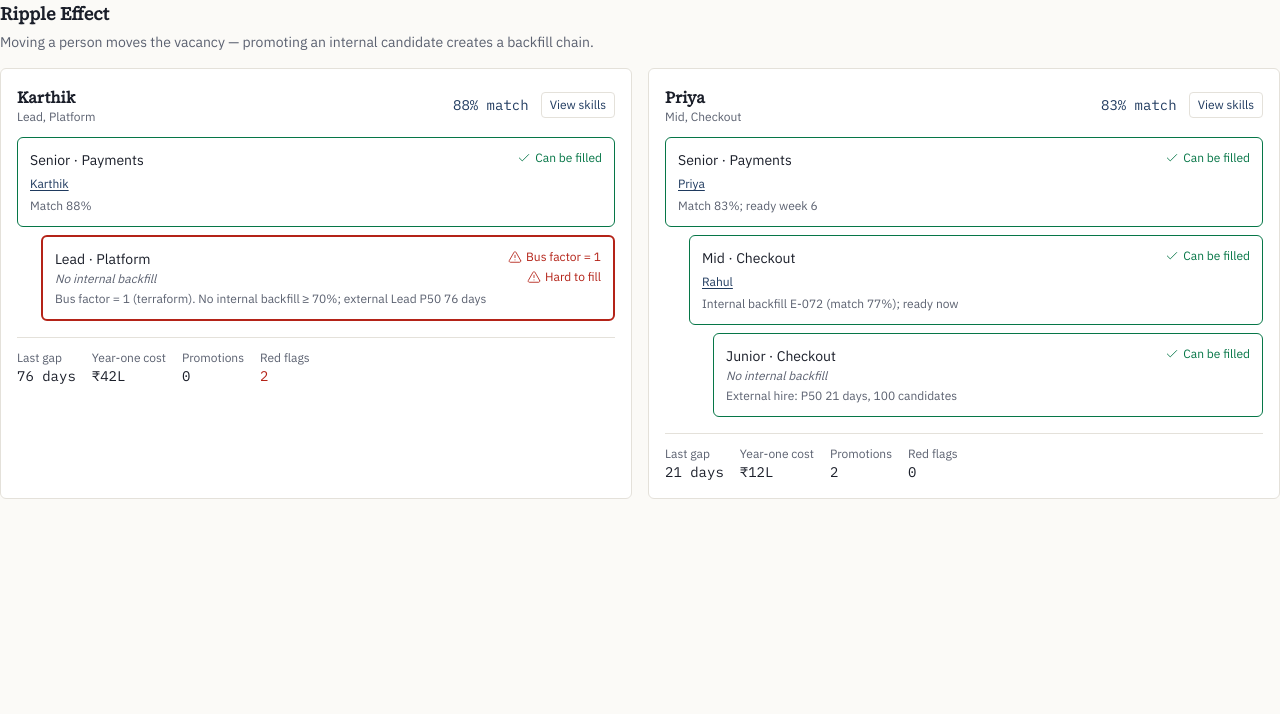
Test: TC11: UI renders only people from API; drawer opens; tree is keyboard navigable › clicking View skills opens the drawer with person's skills
Click the button "View skills" in the row of "Lead, Platform".
click(578, 105)  # box [541, 92, 615, 118]
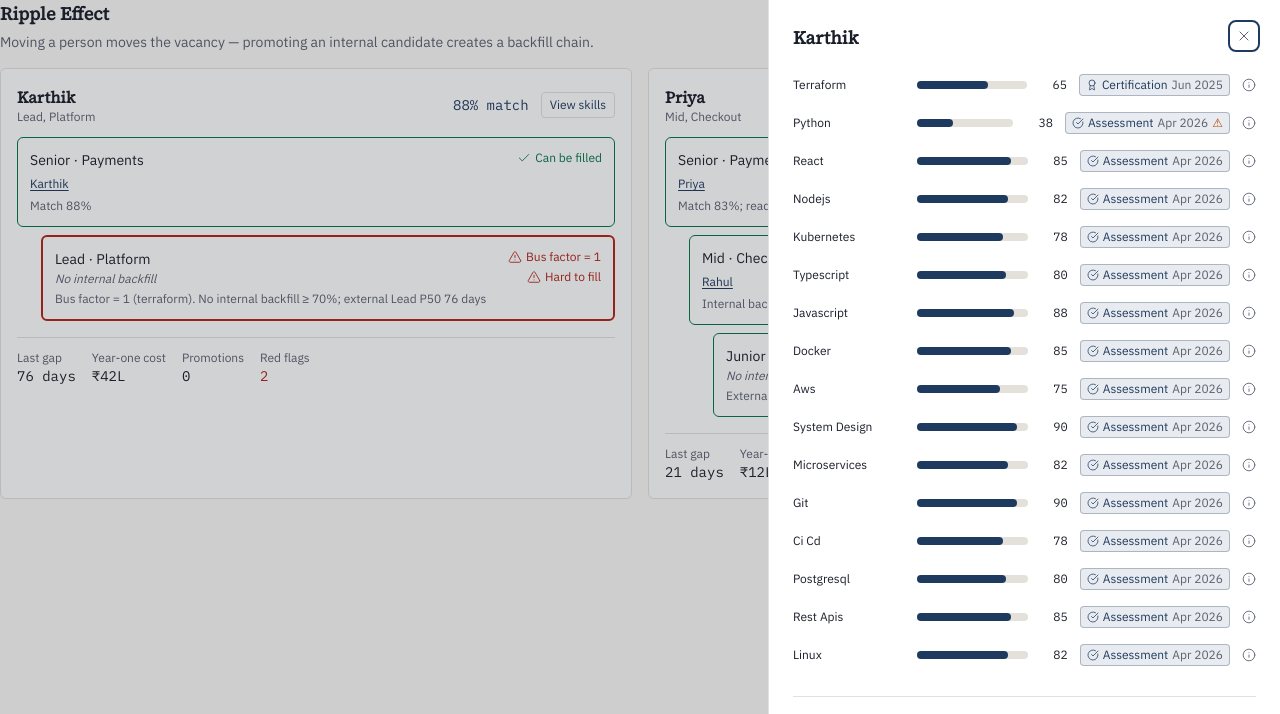
Now the text "Terraform" is shown, box [793, 77, 846, 92]
